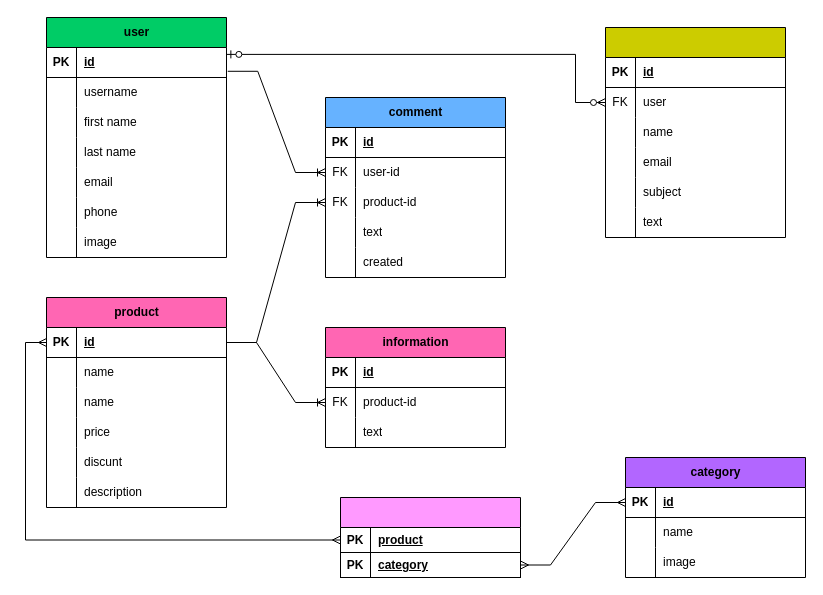
Image size: 823x595. Some labels were removed from this diagram. The box of each missing label's shape, as (x1, y1, x2, y2) in pixels:
message: (604, 26, 786, 238)
ProductCategoryMapping: (340, 496, 520, 578)
